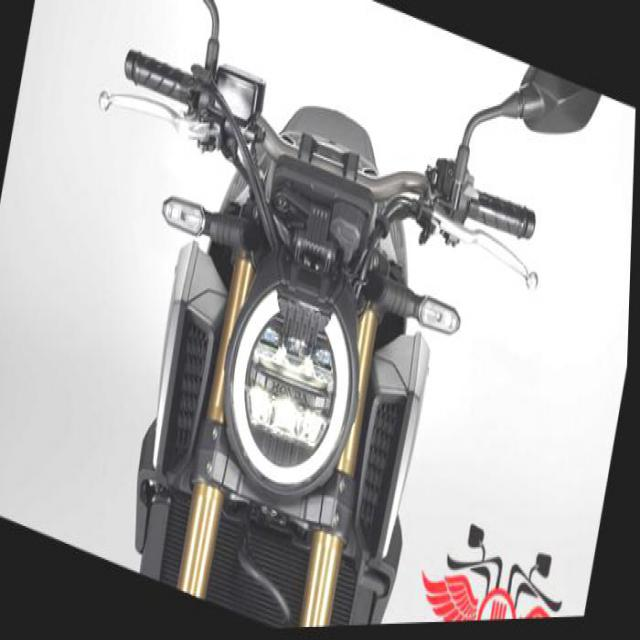CB650R: (2, 0, 609, 639)
